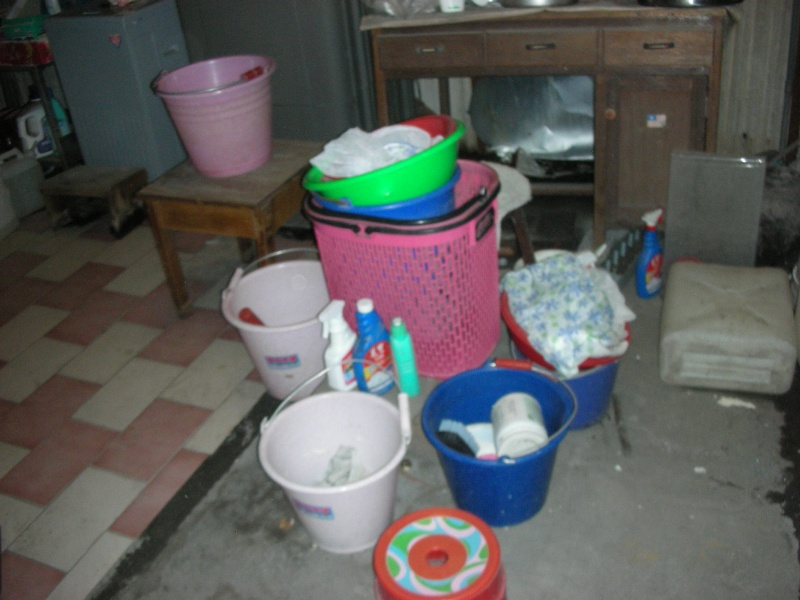bottle: (351, 298, 390, 393), (318, 299, 357, 394), (630, 204, 669, 299), (14, 84, 57, 157), (390, 316, 422, 398)
bowl: (299, 115, 465, 207)
bucket: (420, 365, 578, 526), (256, 392, 413, 552), (660, 259, 800, 395), (151, 52, 276, 180), (220, 256, 325, 398)
plastic_bag: (513, 262, 617, 352)
